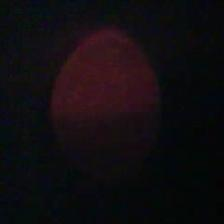fertile: (51, 25, 159, 172)
